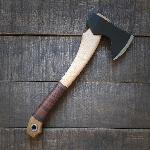Kapak: (20, 8, 140, 140)
